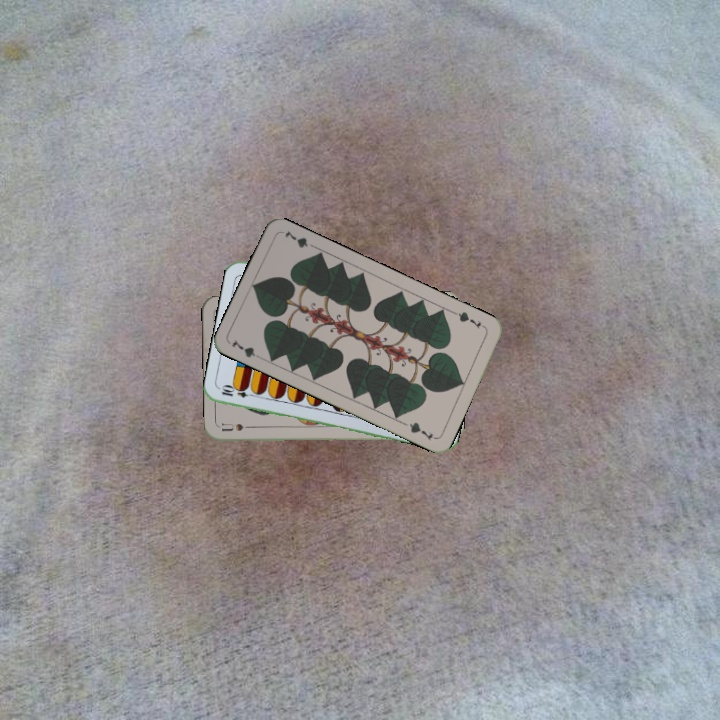E10: (218, 383, 258, 401)
G7: (227, 336, 265, 362), (450, 308, 488, 331)
SU: (219, 420, 259, 434)
